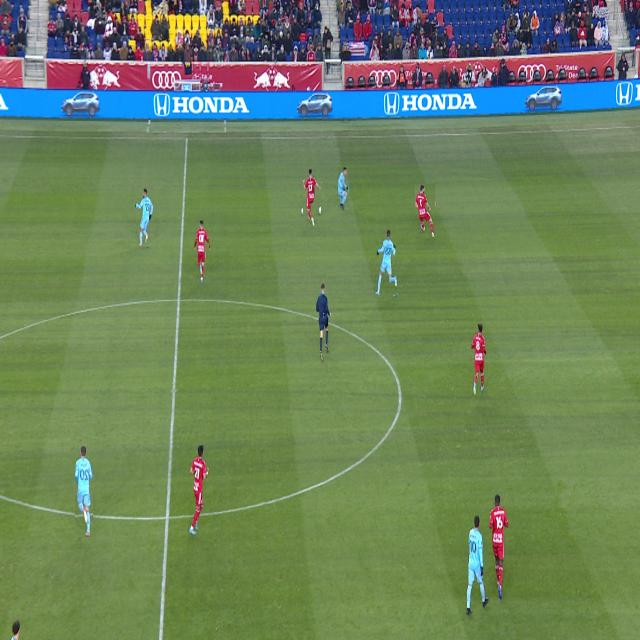football: (301, 207, 306, 216)
player: (466, 515, 489, 615), (489, 496, 508, 599), (189, 444, 209, 535), (75, 445, 93, 537), (376, 230, 397, 295), (135, 189, 154, 247), (471, 323, 486, 395), (303, 170, 321, 227), (416, 185, 435, 238), (195, 220, 209, 283), (338, 167, 348, 210), (11, 621, 20, 640)
referee: (316, 283, 331, 360)
